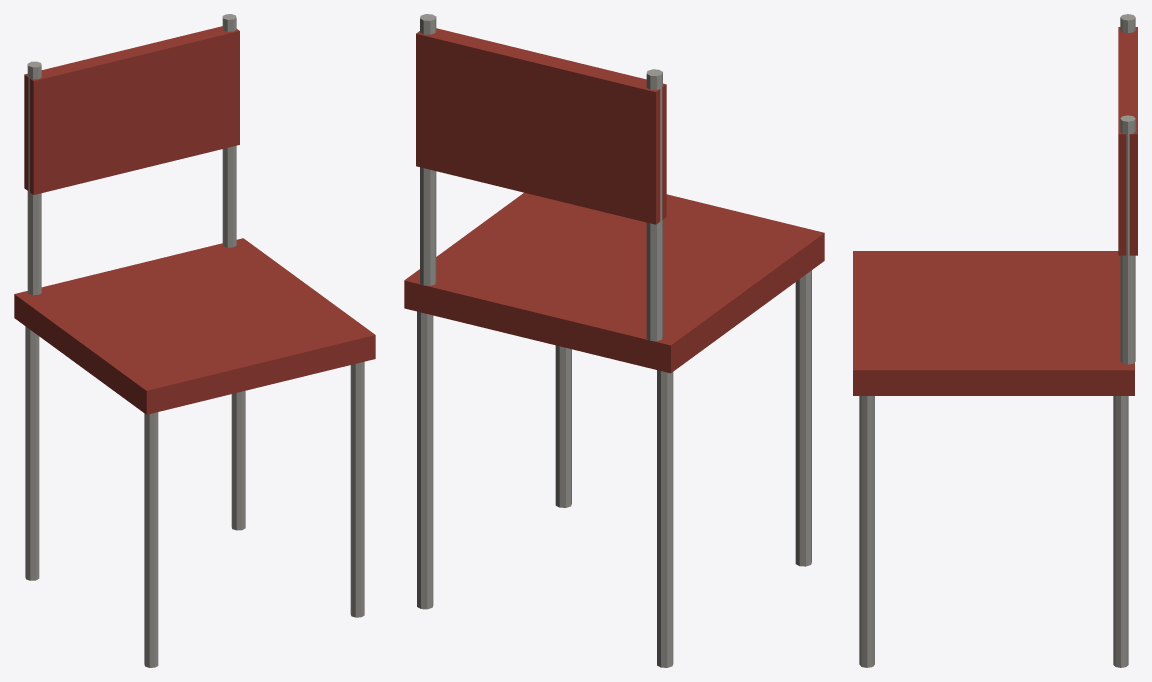
File: kitchen-chair.glb
3 renders of one model, left to right at view 1: azimuth 30°, elevation 25°; view 2: azimuth 150°, elevation 25°; view 3: azimuth 270°, elevation 25°, orthographic. The views are drawn at different scales.
Parts seen in each view (by area): view 1: accent-warm, brushed; view 2: accent-warm, brushed; view 3: accent-warm, brushed.
Boxes of the visible parts, box(x1,y1,x2,y2) form: accent-warm: box(14, 26, 375, 414); brushed: box(25, 14, 364, 667); accent-warm: box(404, 28, 824, 373); brushed: box(417, 14, 811, 667); accent-warm: box(853, 27, 1137, 395); brushed: box(859, 14, 1135, 667).
Size of the model in its own units: 0.4 by 0.85 by 0.404.
